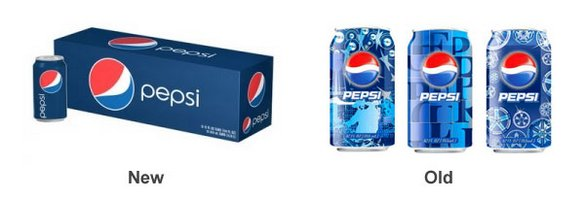pepsi: (86, 54, 135, 110), (499, 50, 537, 88), (423, 50, 460, 89), (345, 50, 378, 85), (244, 70, 266, 109), (108, 33, 157, 50), (38, 66, 61, 93), (41, 66, 61, 93), (239, 113, 252, 133)
